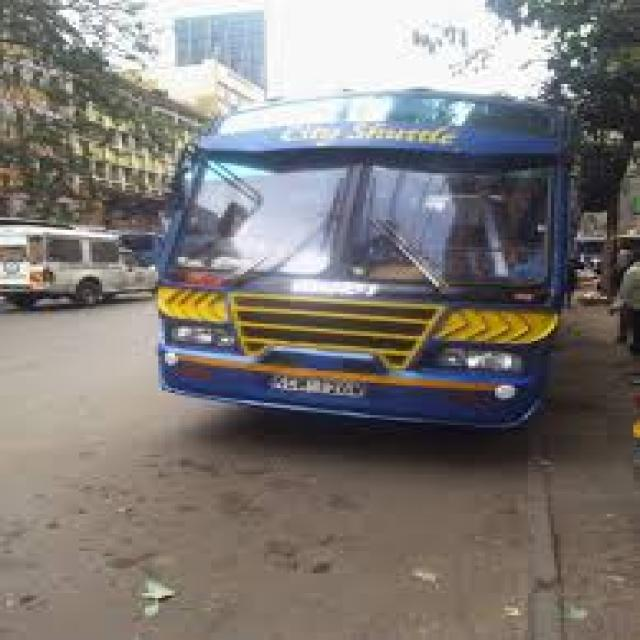bus: (128, 37, 612, 480)
